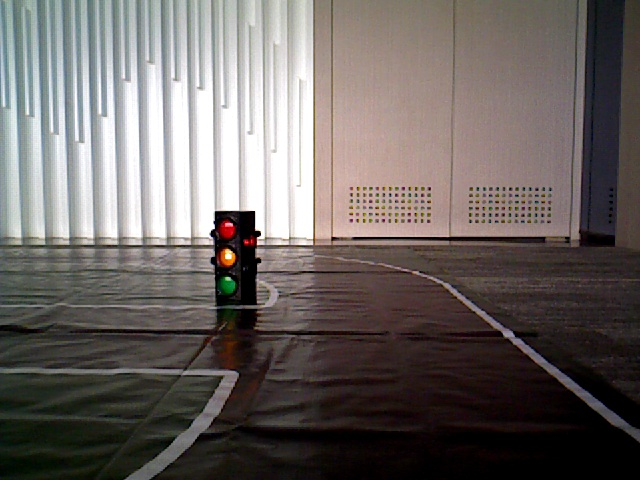yellow: (215, 214, 243, 297)
